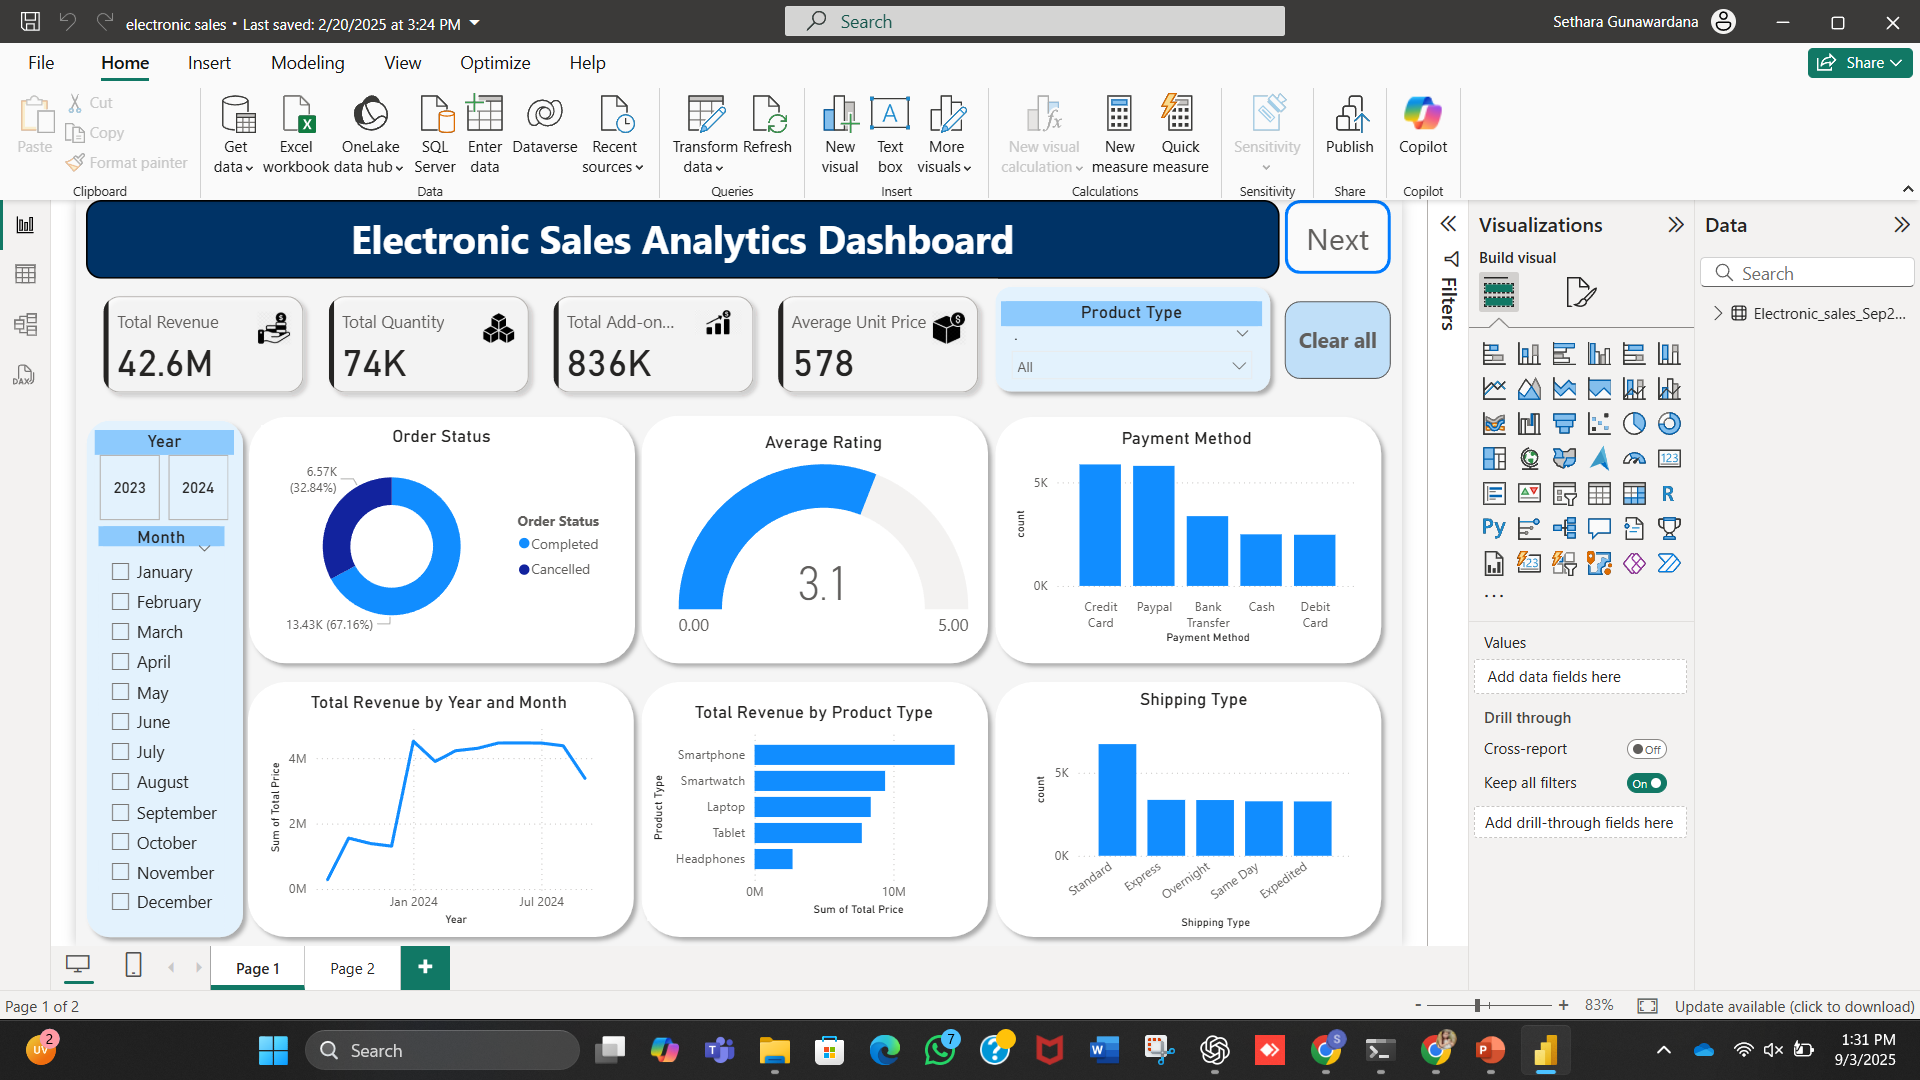

Layout of this report page (visuals, bound fields, positions):
{"tool":"powerbi","page":{"name":"Page 1","canvas":[1280,720],"ordinal":0},"visuals":[{"type":"shape","box":[878.6,75,283.3,119],"z":0,"group":"g5"},{"type":"shape","box":[536.9,198.8,352.4,257.1],"z":0,"group":"g8"},{"type":"shape","box":[158.3,200,390.5,256],"z":0,"group":"g1"},{"type":"shape","box":[1.2,203.6,169,516.7],"z":0},{"type":"shape","box":[878.6,456,390.5,264.3],"z":0,"group":"g6"},{"type":"textbox","box":[9.5,0,1152.4,76.2],"z":1000},{"type":"shape","box":[878.6,200,390.5,256],"z":1000,"group":"g7"},{"type":"shape","box":[157.1,456,390.5,264.3],"z":1000,"group":"g4"},{"type":"cardVisual","fields":{"Data":["Sum(Electronic_sales_Sep2023-Sep2024.Total Price)","Sum(Electronic_sales_Sep2023-Sep2024.Quantity)","Sum(Electronic_sales_Sep2023-Sep2024.Add-on Total)","Avg(Electronic_sales_Sep2023-Sep2024.Unit Price)"]},"box":[9.5,76.2,879.8,127.4],"z":2000},{"type":"shape","box":[536.9,456,352.4,264.3],"z":2000,"group":"g3"},{"type":"group","id":"g1","title":"Group 1","box":[158.3,200,390.5,256],"z":3000},{"type":"donutChart","title":"Order Status","fields":{"Category":["Electronic_sales_Sep2023-Sep2024.Order Status"],"Y":["CountNonNull(Electronic_sales_Sep2023-Sep2024.Order Status)"]},"box":[178.6,216.8,348.7,215.4],"z":3000,"group":"g1"},{"type":"group","id":"g2","title":"Group 2","box":[536.9,198.8,352.4,257.1],"z":4000},{"type":"gauge","title":"Average Rating","fields":{"Y":["Avg(Electronic_sales_Sep2023-Sep2024.Rating)"]},"box":[576.4,222.7,289.8,216.4],"z":4000,"group":"g8"},{"type":"group","id":"g3","title":"Group 5","box":[536.9,456,352.4,264.3],"z":5000},{"type":"clusteredBarChart","title":"Total Revenue by Product Type","fields":{"Category":["Electronic_sales_Sep2023-Sep2024.Product Type"],"Y":["Sum(Electronic_sales_Sep2023-Sep2024.Total Price)"]},"box":[551.6,483.8,321.8,211.7],"z":5000,"group":"g3"},{"type":"group","id":"g4","title":"Group 6","box":[157.1,456,390.5,264.3],"z":6000},{"type":"lineChart","title":"Total Revenue by Year and Month","fields":{"Y":["Sum(Electronic_sales_Sep2023-Sep2024.Total Price)"],"Category":["Electronic_sales_Sep2023-Sep2024.Purchase Date.Variation.Date Hierarchy.Year","Electronic_sales_Sep2023-Sep2024.Purchase Date.Variation.Date Hierarchy.Month"]},"box":[181.9,473.5,336.3,230.9],"z":6000,"group":"g4"},{"type":"group","id":"g5","title":"Group 7","box":[878.6,75,283.3,119],"z":7000,"group":"g9"},{"type":"advancedSlicerVisual","title":"Year","fields":{"Values":["Electronic_sales_Sep2023-Sep2024.Year"]},"box":[17.9,221.4,134.5,92.9],"z":7000},{"type":"slicer","title":"Month","fields":{"Values":["Electronic_sales_Sep2023-Sep2024.Purchase Date.Variation.Date Hierarchy.Month"]},"box":[21.4,314.3,121.4,391.7],"z":8000},{"type":"group","id":"g6","title":"Group 3","box":[878.6,456,390.5,264.3],"z":9000},{"type":"slicer","title":"Product Type","fields":{"Values":["Electronic_sales_Sep2023-Sep2024.Product Type"]},"box":[893,98.4,252.3,75],"z":10000,"group":"g9"},{"type":"group","id":"g7","title":"Group 8","box":[878.6,200,390.5,256],"z":10000},{"type":"actionButton","box":[1166.7,0,102.4,71.4],"z":11000},{"type":"columnChart","title":"Payment Method","fields":{"Category":["Electronic_sales_Sep2023-Sep2024.Payment Method"],"Y":["CountNonNull(Electronic_sales_Sep2023-Sep2024.Payment Method)"]},"box":[901.2,219.8,341.7,213.9],"z":11000,"group":"g7"},{"type":"group","id":"g8","title":"Group 4","box":[536.9,198.8,352.4,257.1],"z":11002,"group":"g2"},{"type":"group","id":"g9","title":"Group 9","box":[878.6,75,283.3,119],"z":12000},{"type":"actionButton","box":[1166.7,97.6,102.4,75],"z":13000},{"type":"clusteredColumnChart","title":"Shipping Type","fields":{"Category":["Electronic_sales_Sep2023-Sep2024.Shipping Type"],"Y":["CountNonNull(Electronic_sales_Sep2023-Sep2024.Shipping Type)"]},"box":[920.3,471.3,316.7,236.2],"z":13000,"group":"g6"}]}

Visuals, with their boxes on the page's 1280x720 design canvas (x1, y1, x2, y2). These are canvas units, not pixel positions in the 1920x1080 screenshot, which may show the page scaled, cropped or inside an application window:
shape: {"x1": 879, "y1": 75, "x2": 1162, "y2": 194}
shape: {"x1": 537, "y1": 199, "x2": 889, "y2": 456}
shape: {"x1": 158, "y1": 200, "x2": 549, "y2": 456}
shape: {"x1": 1, "y1": 204, "x2": 170, "y2": 720}
shape: {"x1": 879, "y1": 456, "x2": 1269, "y2": 720}
textbox: {"x1": 10, "y1": 0, "x2": 1162, "y2": 76}
shape: {"x1": 879, "y1": 200, "x2": 1269, "y2": 456}
shape: {"x1": 157, "y1": 456, "x2": 548, "y2": 720}
cardVisual - Sum(Electronic_sales_Sep2023-Sep2024.Total Price) x Sum(Electronic_sales_Sep2023-Sep2024.Quantity): {"x1": 10, "y1": 76, "x2": 889, "y2": 204}
shape: {"x1": 537, "y1": 456, "x2": 889, "y2": 720}
"Group 1" group: {"x1": 158, "y1": 200, "x2": 549, "y2": 456}
"Order Status" donutChart: {"x1": 179, "y1": 217, "x2": 527, "y2": 432}
"Group 2" group: {"x1": 537, "y1": 199, "x2": 889, "y2": 456}
"Average Rating" gauge: {"x1": 576, "y1": 223, "x2": 866, "y2": 439}
"Group 5" group: {"x1": 537, "y1": 456, "x2": 889, "y2": 720}
"Total Revenue by Product Type" clusteredBarChart: {"x1": 552, "y1": 484, "x2": 873, "y2": 696}
"Group 6" group: {"x1": 157, "y1": 456, "x2": 548, "y2": 720}
"Total Revenue by Year and Month" lineChart: {"x1": 182, "y1": 474, "x2": 518, "y2": 704}
"Group 7" group: {"x1": 879, "y1": 75, "x2": 1162, "y2": 194}
"Year" advancedSlicerVisual: {"x1": 18, "y1": 221, "x2": 152, "y2": 314}
"Month" slicer: {"x1": 21, "y1": 314, "x2": 143, "y2": 706}
"Group 3" group: {"x1": 879, "y1": 456, "x2": 1269, "y2": 720}
"Product Type" slicer: {"x1": 893, "y1": 98, "x2": 1145, "y2": 173}
"Group 8" group: {"x1": 879, "y1": 200, "x2": 1269, "y2": 456}
actionButton: {"x1": 1167, "y1": 0, "x2": 1269, "y2": 71}
"Payment Method" columnChart: {"x1": 901, "y1": 220, "x2": 1243, "y2": 434}
"Group 4" group: {"x1": 537, "y1": 199, "x2": 889, "y2": 456}
"Group 9" group: {"x1": 879, "y1": 75, "x2": 1162, "y2": 194}
actionButton: {"x1": 1167, "y1": 98, "x2": 1269, "y2": 173}
"Shipping Type" clusteredColumnChart: {"x1": 920, "y1": 471, "x2": 1237, "y2": 708}
